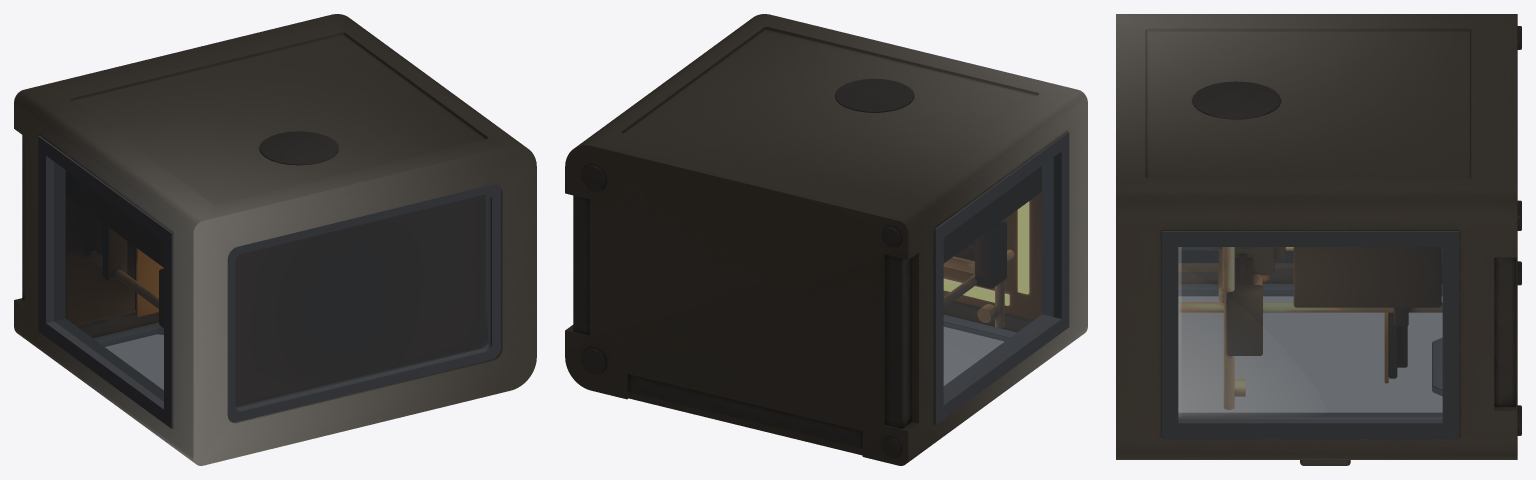
File: deltrol_p2s_explorer_v7.glb
3 renders of one model, left to right at view 1: azimuth 30°, elevation 25°; view 2: azimuth 150°, elevation 25°; view 3: azimuth 270°, elevation 25°, orthographic. The views are drawn at different scales.
Parts seen in each view (by area): view 1: unibody_shell, top_roof_glass, interior_ceiling_liner, left_glass_window, left_window_gasket, top_rim_outer, interior_floor_tray, interior_left_back_baffle, rear_exhaust_shroud, front_glass_door, bed_heater_block, build_plate (+3 smaller); view 2: unibody_shell, left_glass_window, left_window_gasket, chassis_recessed_plinth, interior_ceiling_liner, interior_left_back_baffle, rear_exhaust_shroud, front_glass_door, x_gantry_crossbeam, x_guide_front, led_bar_left, door_top_rail (+2 smaller); view 3: unibody_shell, right_glass_window, front_glass_door, right_window_gasket, interior_rear_electronics_box, right_glass_sheen, x_guide_front, chassis_recessed_plinth, x_gantry_crossbeam, rear_exhaust_shroud, bed_heater_block, door_left_stile (+3 smaller).
Part boxes in pixels (x1,y1,x2,y2): unibody_shell: (14, 14, 536, 465); top_roof_glass: (235, 194, 490, 410); interior_ceiling_liner: (235, 194, 485, 406); left_glass_window: (54, 162, 163, 401); left_window_gasket: (38, 136, 173, 428); top_rim_outer: (227, 184, 500, 422); interior_floor_tray: (65, 196, 135, 326); interior_left_back_baffle: (65, 170, 163, 267); rear_exhaust_shroud: (259, 131, 338, 165); front_glass_door: (101, 330, 163, 389); bed_heater_block: (102, 223, 135, 310); build_plate: (136, 248, 163, 316); unibody_shell: (565, 14, 1087, 465); left_glass_window: (943, 157, 1053, 396); left_window_gasket: (934, 132, 1069, 424); chassis_recessed_plinth: (573, 195, 911, 448); interior_ceiling_liner: (943, 192, 1041, 319); interior_left_back_baffle: (943, 166, 1041, 262); rear_exhaust_shroud: (835, 78, 913, 112); front_glass_door: (944, 323, 1008, 385); x_gantry_crossbeam: (954, 222, 1006, 288); x_guide_front: (943, 219, 1014, 328); led_bar_left: (1017, 201, 1029, 294); door_top_rail: (943, 314, 1016, 340); unibody_shell: (1116, 14, 1517, 459); right_glass_window: (1178, 247, 1442, 418); front_glass_door: (1179, 291, 1442, 412); right_window_gasket: (1161, 231, 1459, 438); interior_rear_electronics_box: (1293, 247, 1441, 307); right_glass_sheen: (1178, 247, 1242, 416); x_guide_front: (1180, 247, 1442, 409); chassis_recessed_plinth: (1494, 257, 1515, 406); x_gantry_crossbeam: (1227, 247, 1275, 355); rear_exhaust_shroud: (1192, 81, 1280, 119); bed_heater_block: (1388, 307, 1408, 378); door_left_stile: (1178, 283, 1442, 295).
Bounding box in the file's own units: 0.424 × 0.2989 × 0.384.
10 materials, 4 textured.
